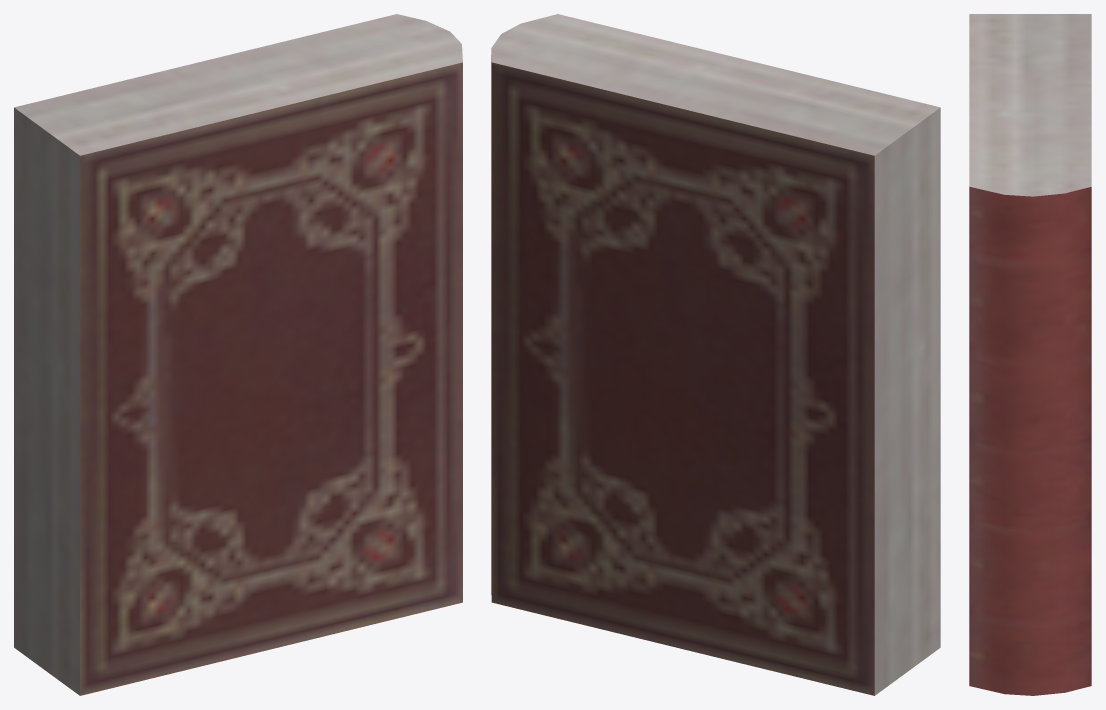
Rendered from ExportLibraryBookFull_A.FBX.
3 renders of one model, left to right at view 1: azimuth 30°, elevation 25°; view 2: azimuth 150°, elevation 25°; view 3: azimuth 270°, elevation 25°, orthographic. The views are drawn at different scales.
Parts seen in each view (by area): view 1: lib_books_full_A; view 2: lib_books_full_A; view 3: lib_books_full_A.
Boxes of the visible parts, x1,y1,x2,y2 form: lib_books_full_A: [14, 14, 462, 695]; lib_books_full_A: [491, 14, 940, 695]; lib_books_full_A: [969, 14, 1091, 695].
Size of the model in its own units: 13.52 by 3.83 by 17.24.
